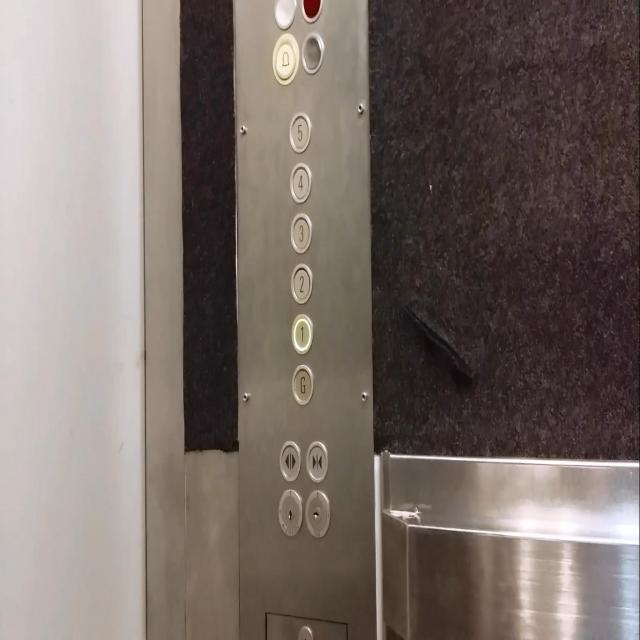1: (290, 312, 313, 351)
2: (290, 262, 312, 303)
3: (290, 212, 312, 255)
4: (288, 162, 312, 201)
5: (288, 109, 311, 153)
G: (291, 362, 315, 405)
alarm: (270, 32, 298, 85)
close: (305, 440, 328, 481)
empty: (301, 32, 323, 74)
keyhole: (276, 486, 302, 536), (304, 486, 330, 536)
open: (277, 437, 301, 481)
